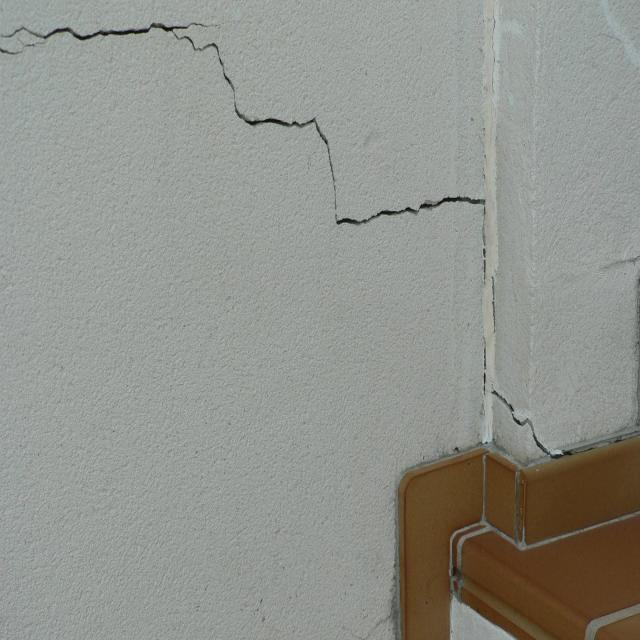crack: (0, 16, 488, 286), (488, 386, 573, 458), (489, 278, 497, 332), (481, 338, 487, 398)
